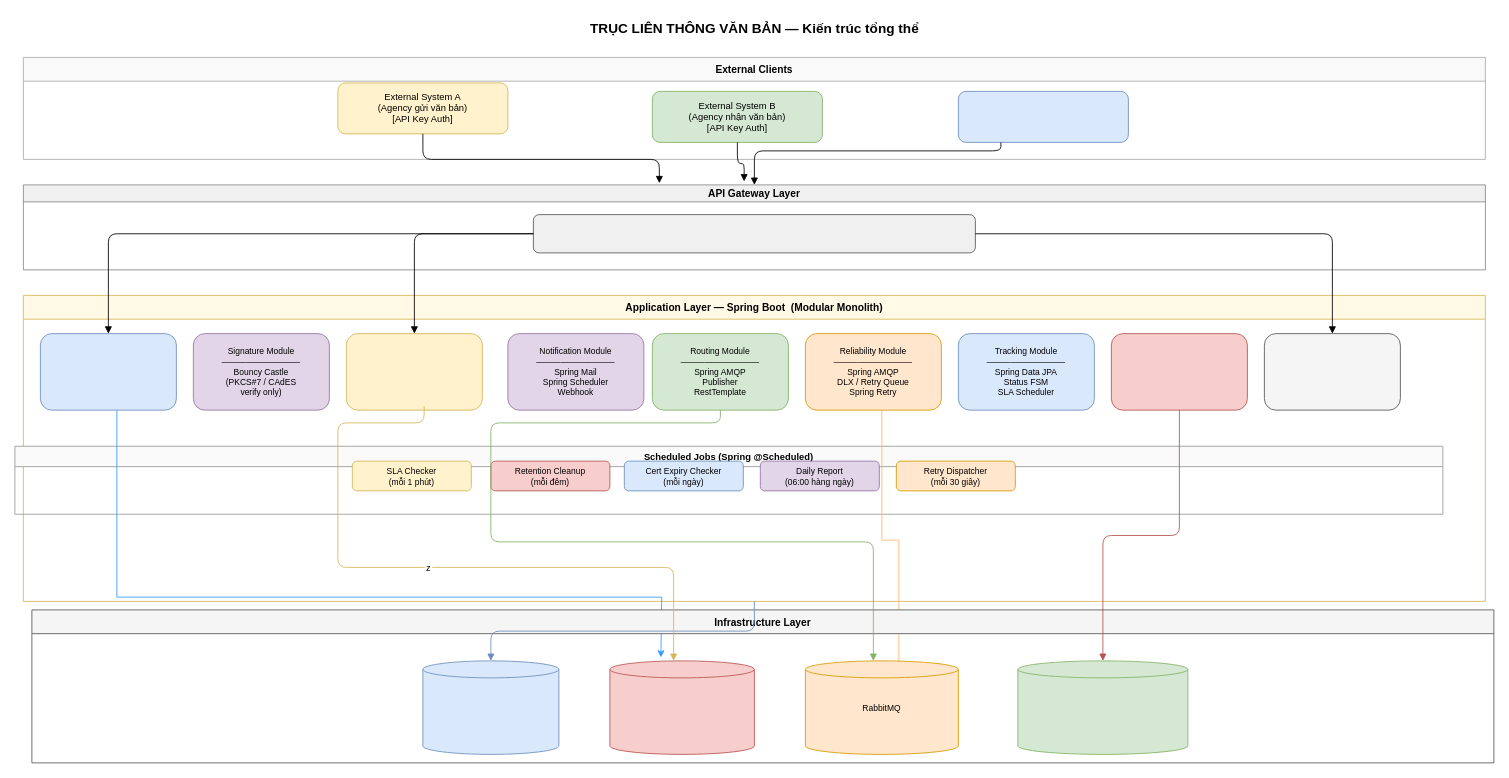
The diagram is 1509 pixels wide and 778 high, and some of its shapes have lost their labels. Here are the shapes that lost their labels. From the top down, the centre of each, then its label:
At point 1043,116: "Hub Admin (Web UI / Dashboard)".
At point 754,233: "NGINX • TLS Termination • Rate Limiting • Load Balancing".
At point 108,371: "Registry Module ───────────── Spring Data JPA Redis Cache (org + cert)".
At point 414,371: "Exchange Module ───────────── Spring Web MVC Idempotency Key (Redis)".
At point 1179,371: "Storage Module ───────────── MinIO Client (S3-compatible) checksum SHA-256".
At point 1332,371: "Audit Module ───────────── Spring Data JPA Append-only JSONB detail".
At point 490,707: "PostgreSQL".
At point 681,707: "Redis".
At point 1102,707: "MinIO (Object Storage)".
